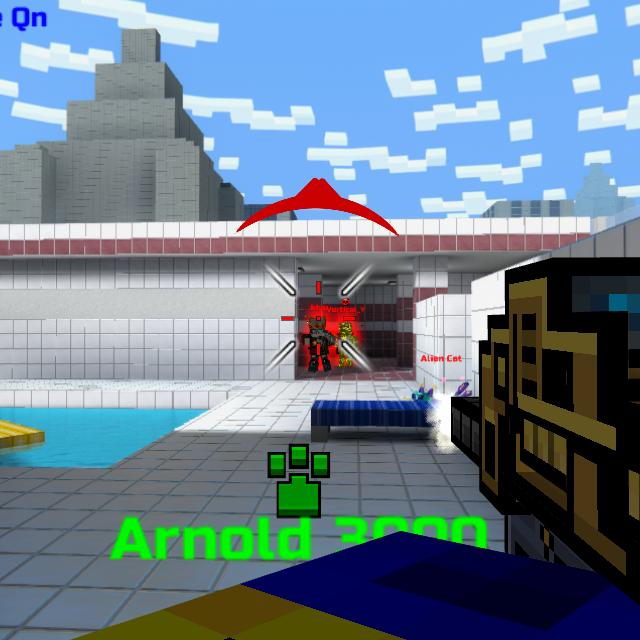Enemy: (301, 315, 336, 372), (335, 322, 358, 366)
